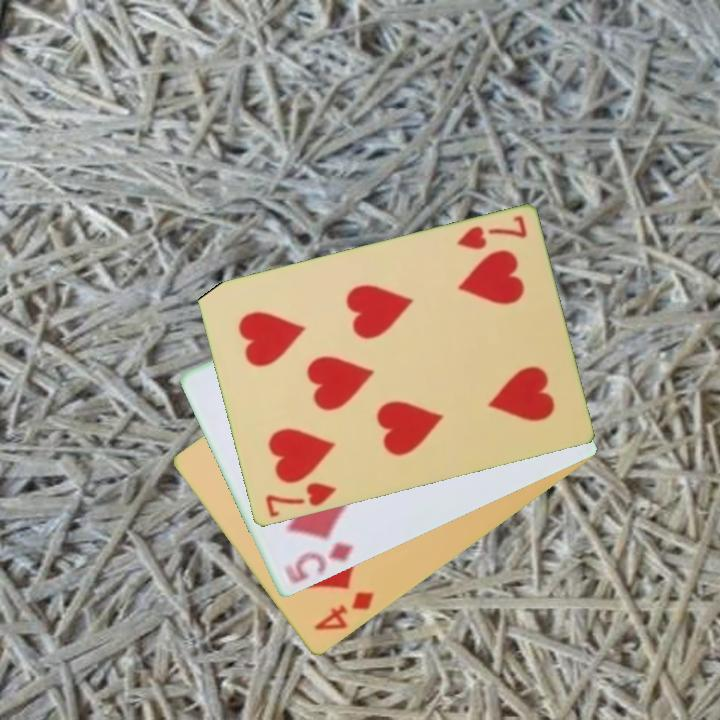4d: (310, 588, 377, 635)
5d: (280, 539, 357, 587)
7h: (261, 479, 339, 521), (452, 212, 530, 253)
